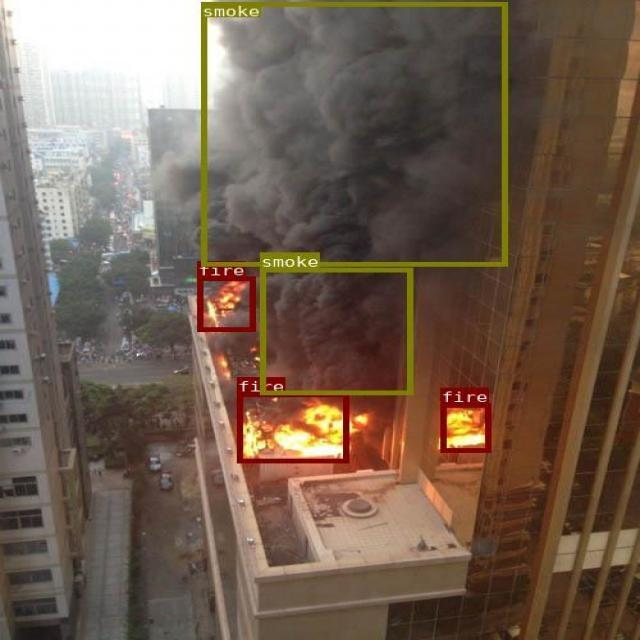fire: (236, 392, 347, 462), (196, 276, 254, 331), (440, 402, 490, 452)
smoke: (200, 1, 506, 266), (260, 267, 412, 394)
